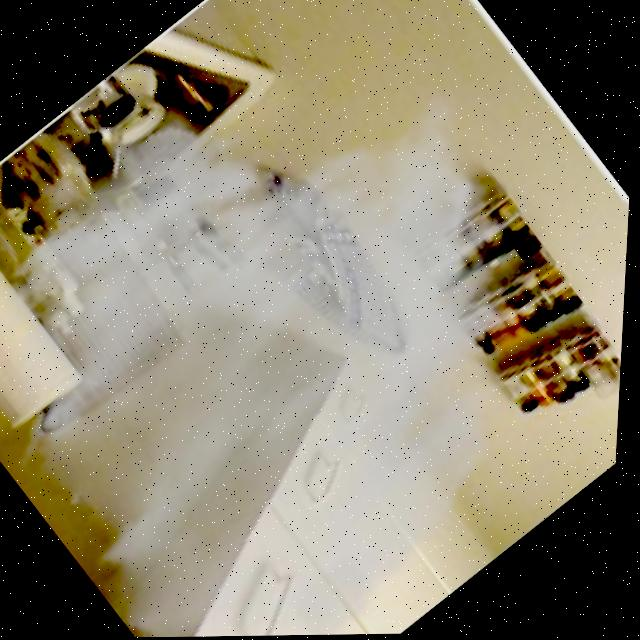Smoke: (0, 0, 627, 638)
